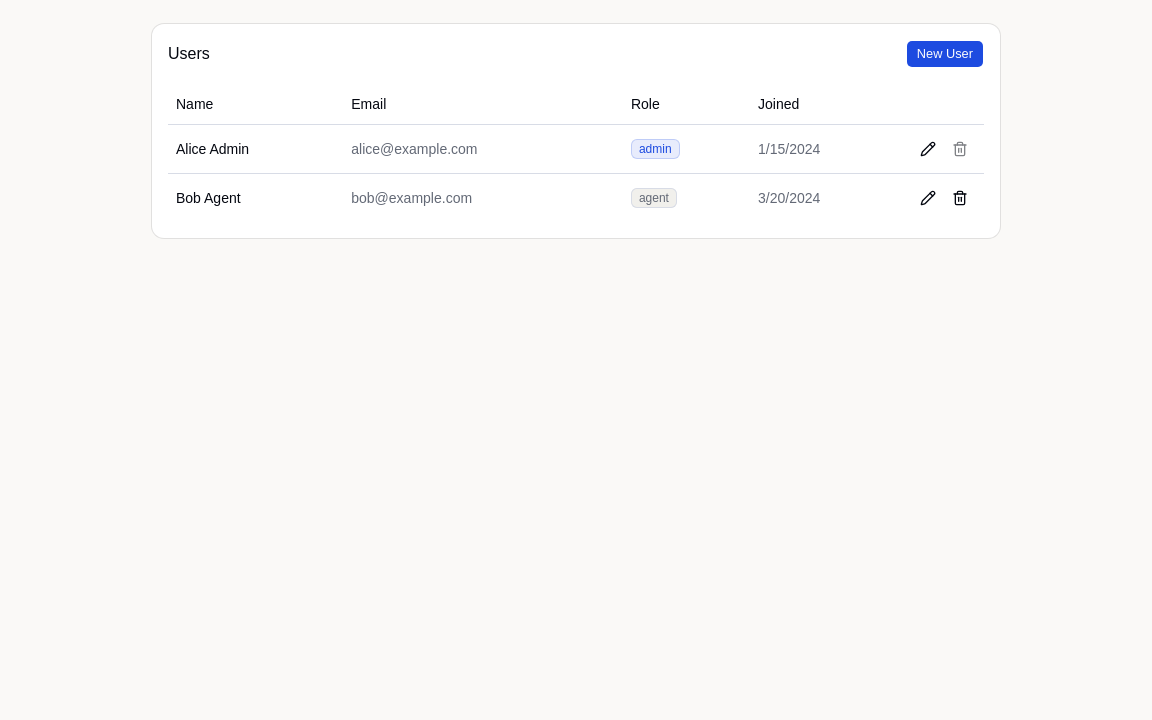
Test: UsersPage — Create User dialog › closes the dialog when Cancel is clicked
Click the button "New User".
click(945, 54)  # box 906,40 -> 984,68
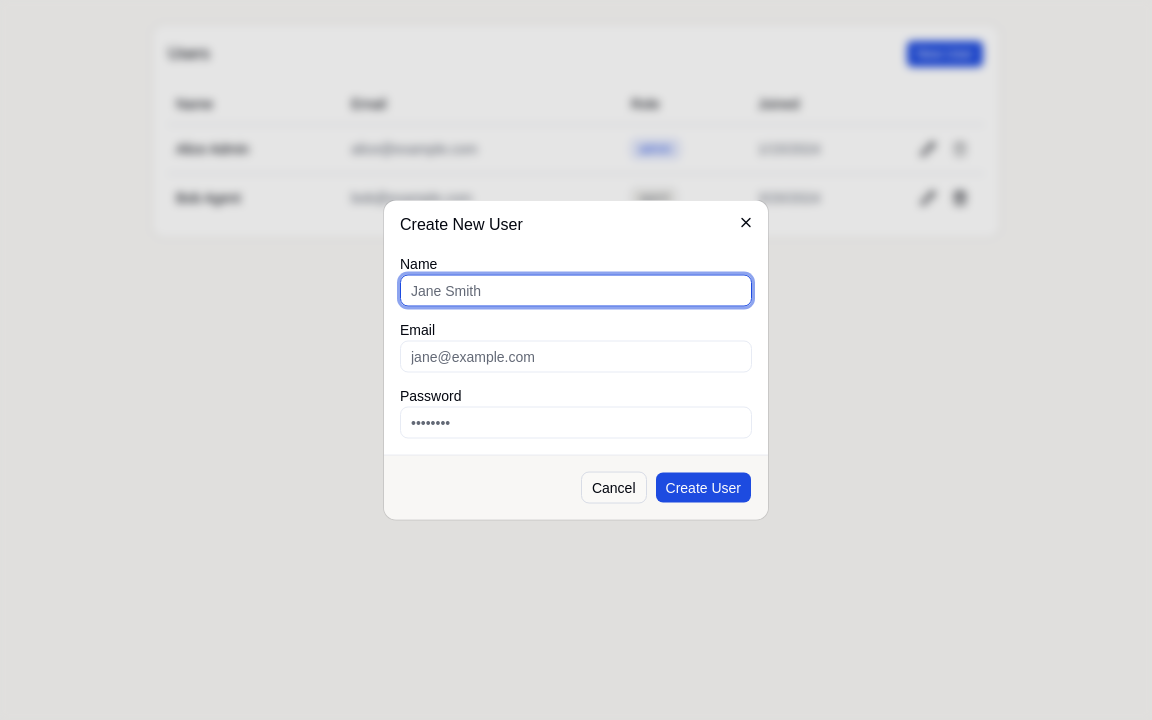
Check: the dialog is shown, box 384,200 -> 768,520
Click the button "Cancel".
click(614, 488)  # box 581,472 -> 646,504
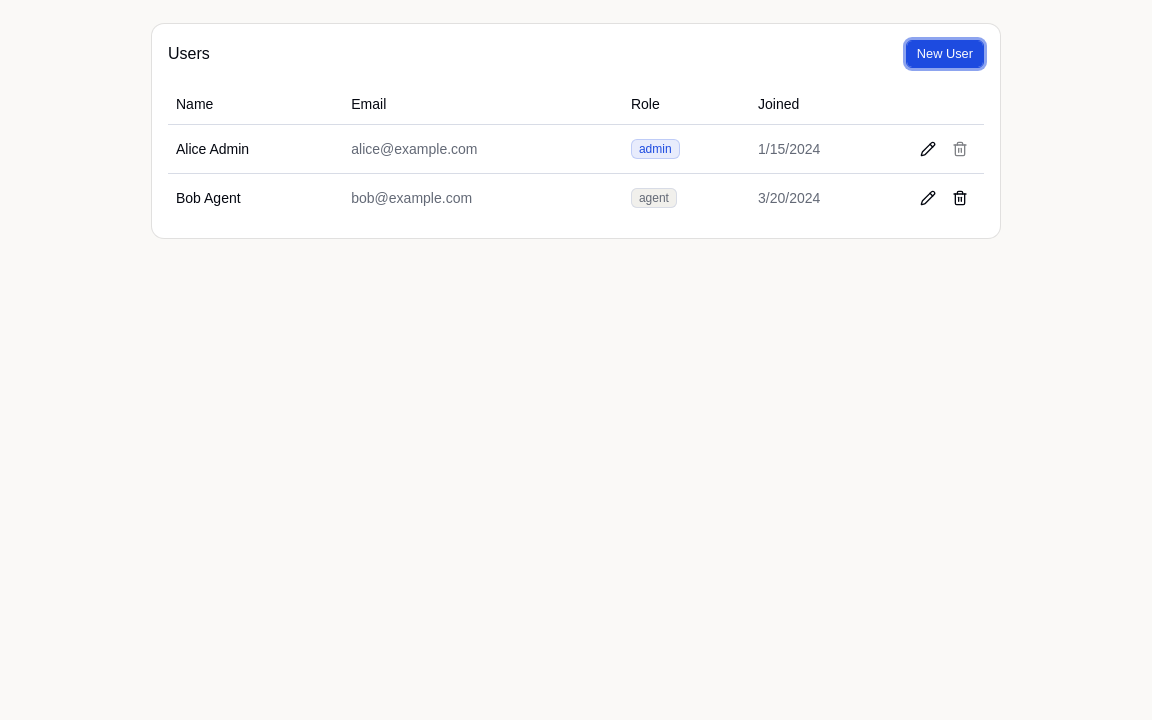
Check: the dialog is gone
